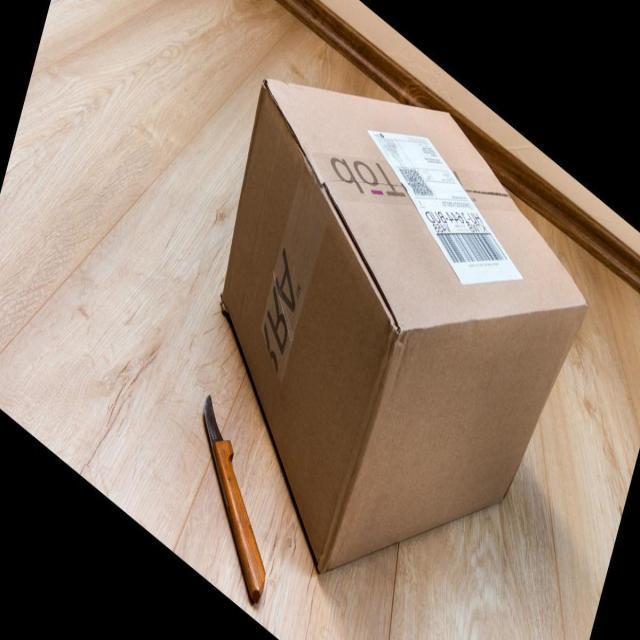box: (222, 80, 588, 578)
